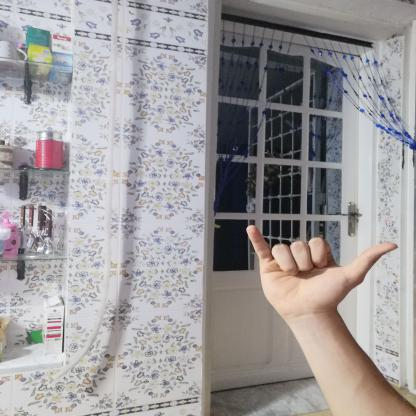YA: (233, 215, 408, 325)
